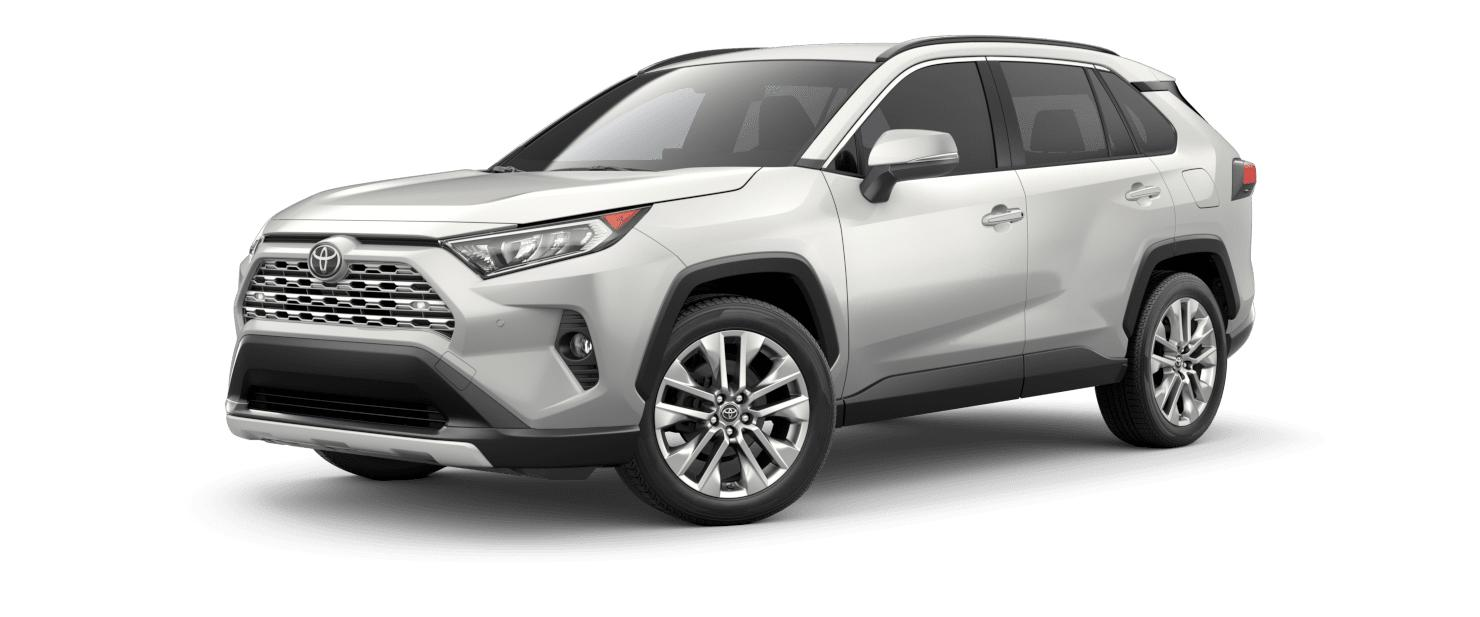Toyota RAV-4: (226, 33, 1257, 524)
